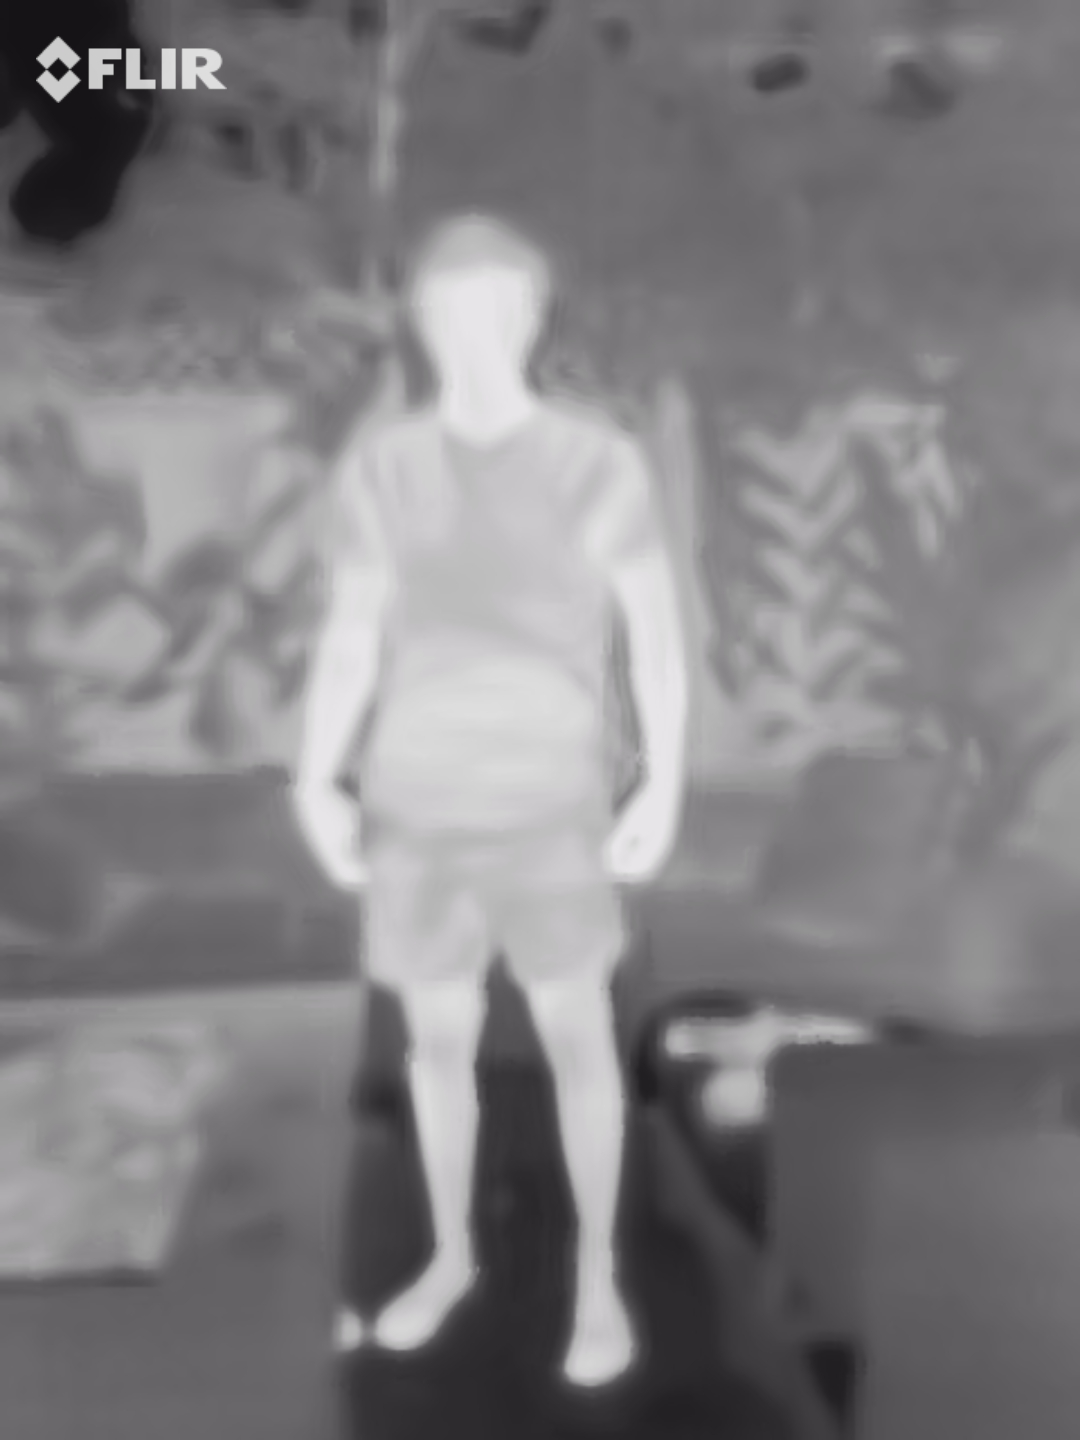head: (401, 212, 565, 394)
